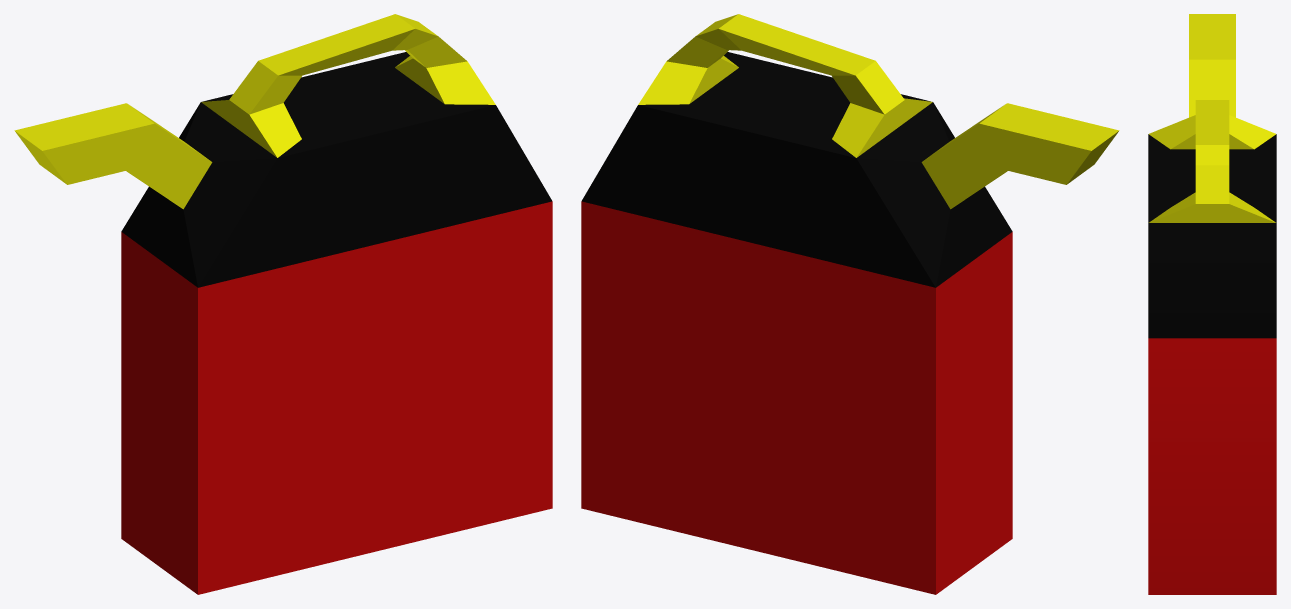
The model's file is JerryCan.fbx.
3 views of the same model, side by side, from view 1: azimuth 30°, elevation 25°; view 2: azimuth 150°, elevation 25°; view 3: azimuth 270°, elevation 25° (orthographic). The views are drawn at different scales.
Parts seen in each view (by area): view 1: pCube1; view 2: pCube1; view 3: pCube1.
Part boxes in pixels (x1,y1,x2,y2): pCube1: (14, 14, 552, 594); pCube1: (581, 14, 1119, 594); pCube1: (1148, 14, 1276, 594).
Size of the model in its own units: 5.48 by 5.23 by 1.5.
